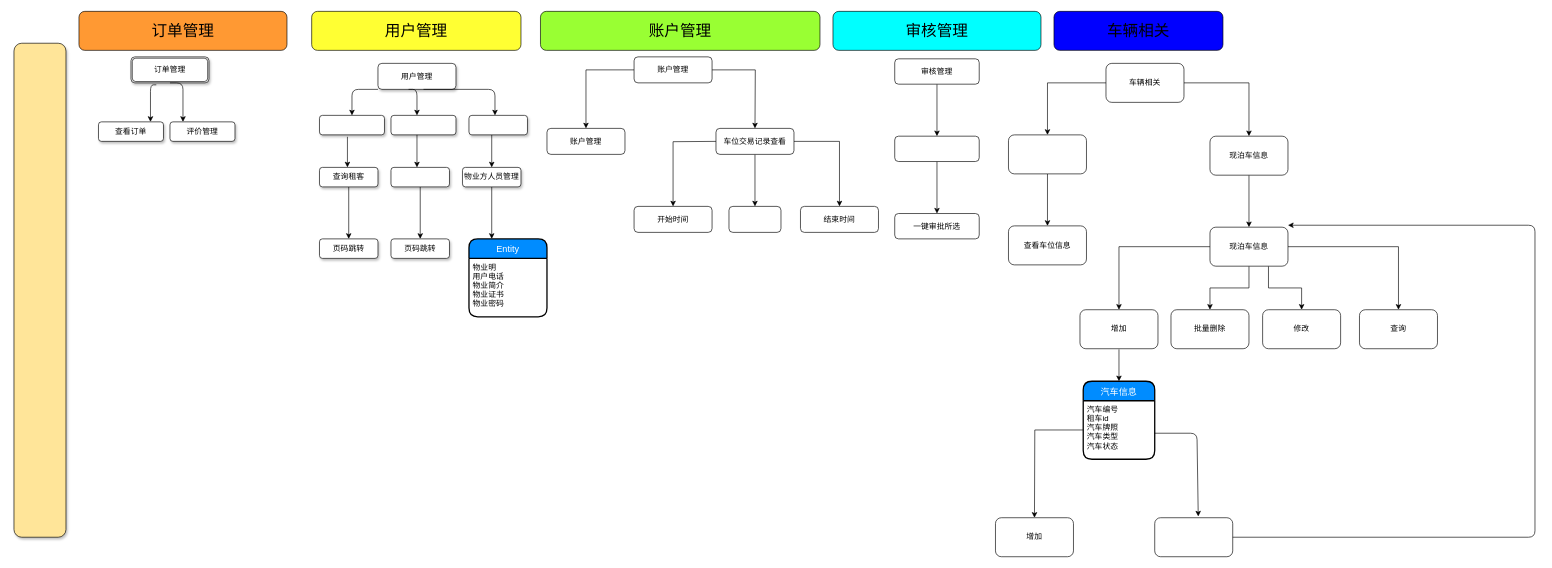
Image size: 1552x568. Some labels were removed from this diagram. Each missing label, with the centre of its shape:
"业主信息审核" goes at point 936,149.
"业主方信息" goes at point 424,125.
"取消" goes at point 1193,537.
"支付宝单号" goes at point 754,219.
"查询业主" goes at point 420,177.
"物业方" goes at point 40,291.
"物业方信息" goes at point 498,125.
"租客信息" goes at point 352,125.
"车位管理" goes at point 1047,154.
